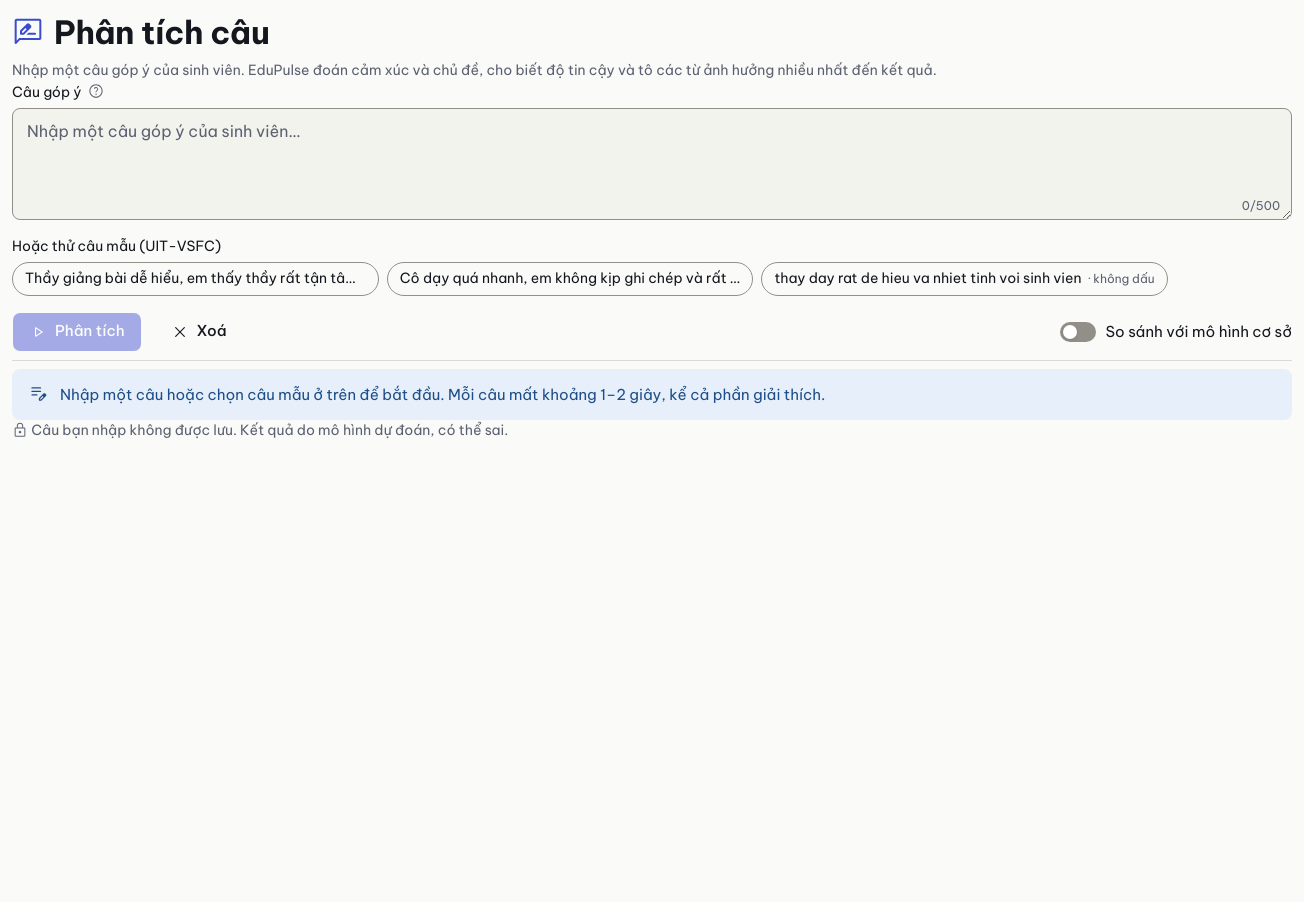
Scenario: trang Phân tích câu › chọn câu khác khi câu trước chưa xong: kết quả muộn của câu cũ không ghi đè câu mới
The width and height of the screenshot is (1304, 902).
Click the text box labelled "Câu góp ý" at (652,164), box [12,108,1292,220]
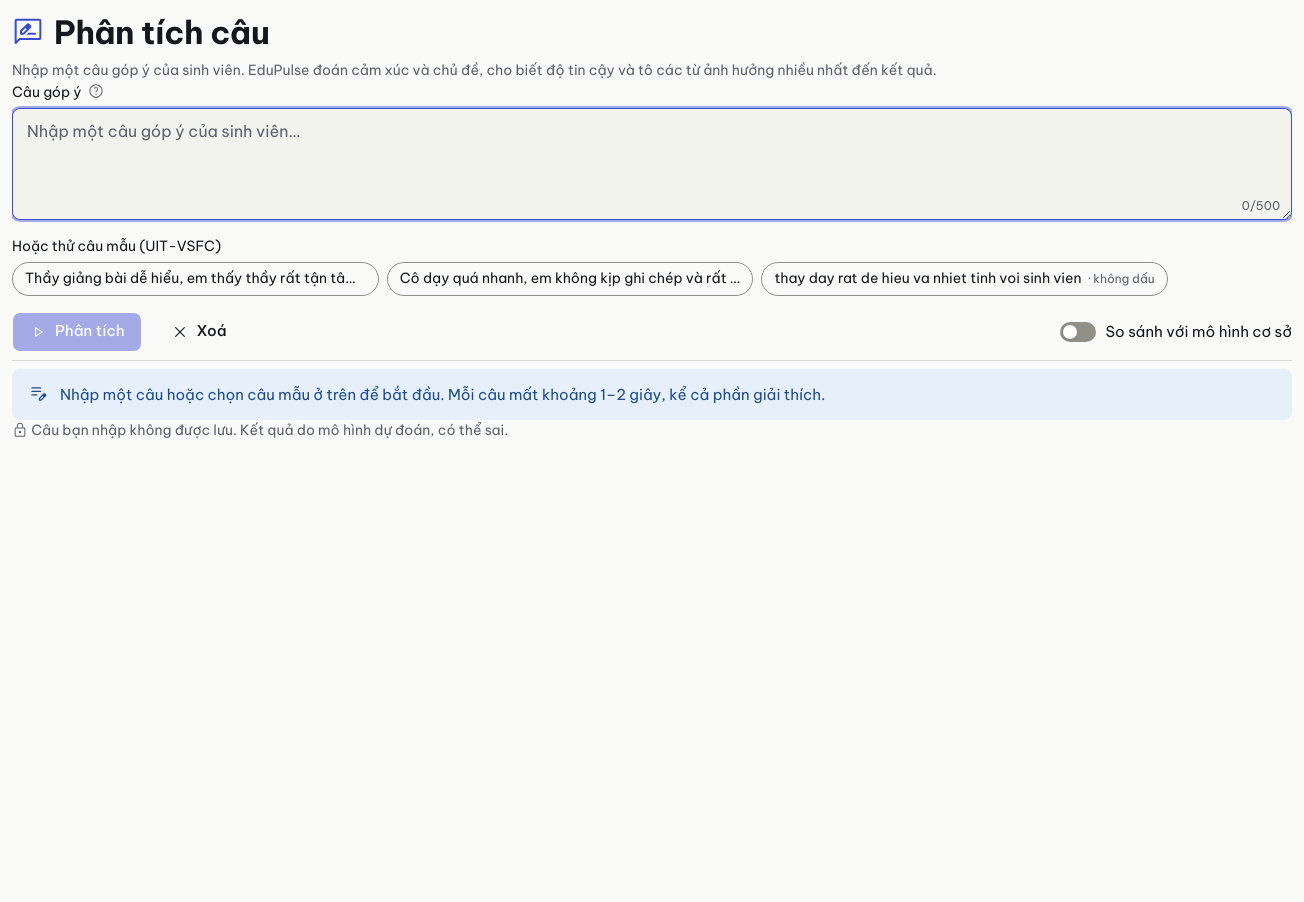
Type keys "Cô dạy quá nhanh, em không kịp ghi chép và rất ít khi được hỏi lại."
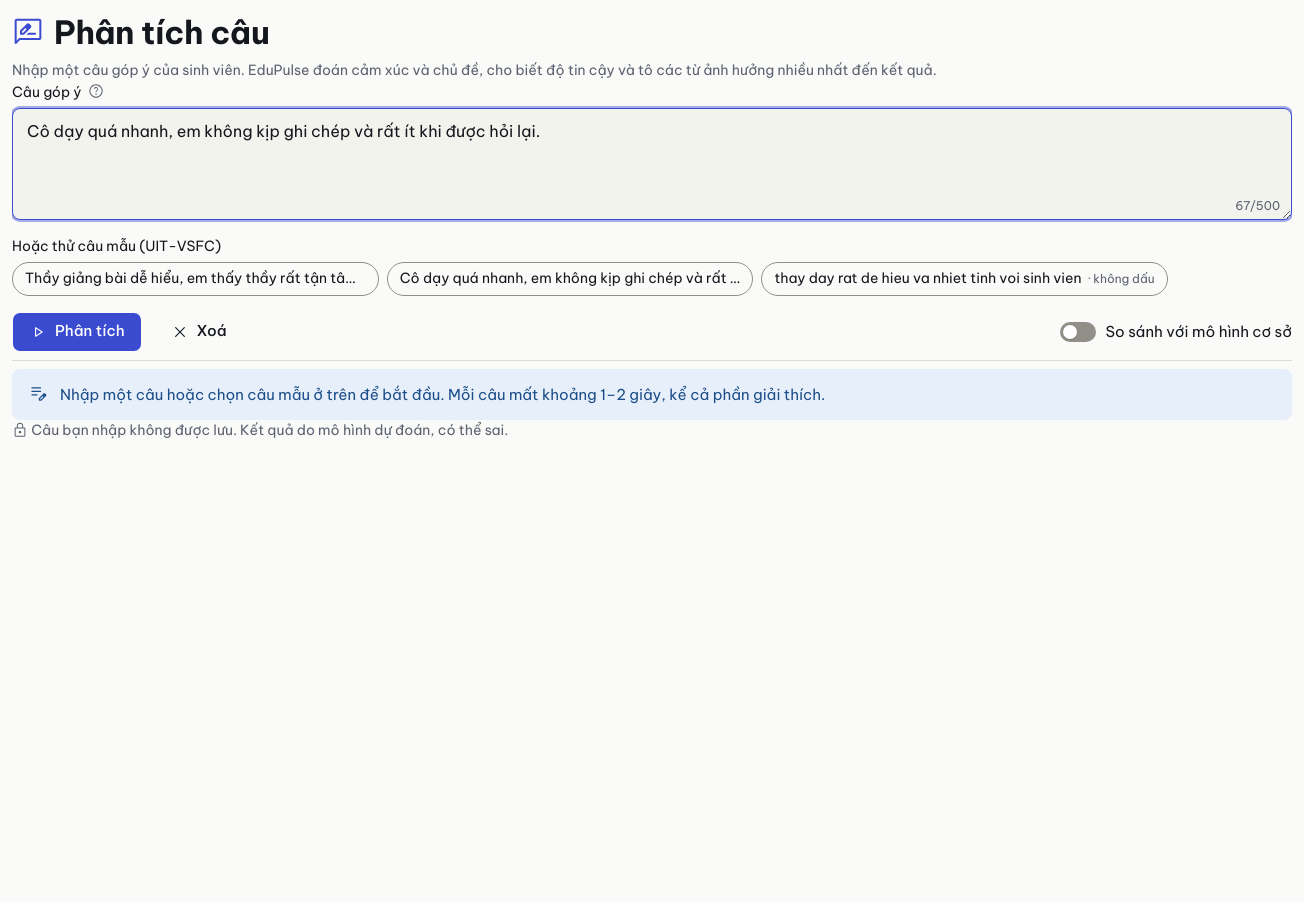
Click the button "Phân tích" at (77,332), box [12,312,142,352]
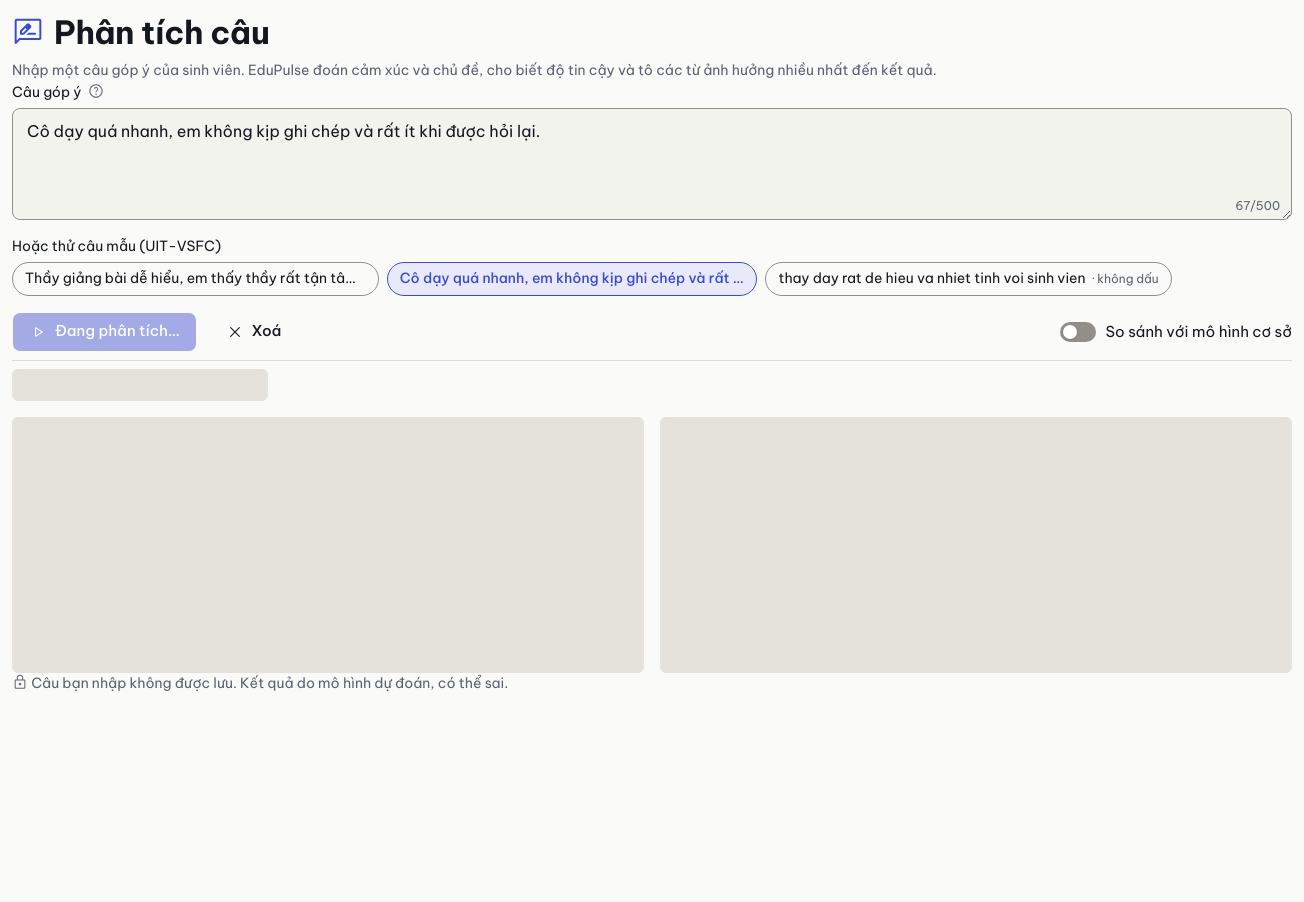
Click the button "Thầy giảng bài dễ hiểu, em thấy thầy rất tận tâm với lớp." at (195,279), box [12,262,379,296]
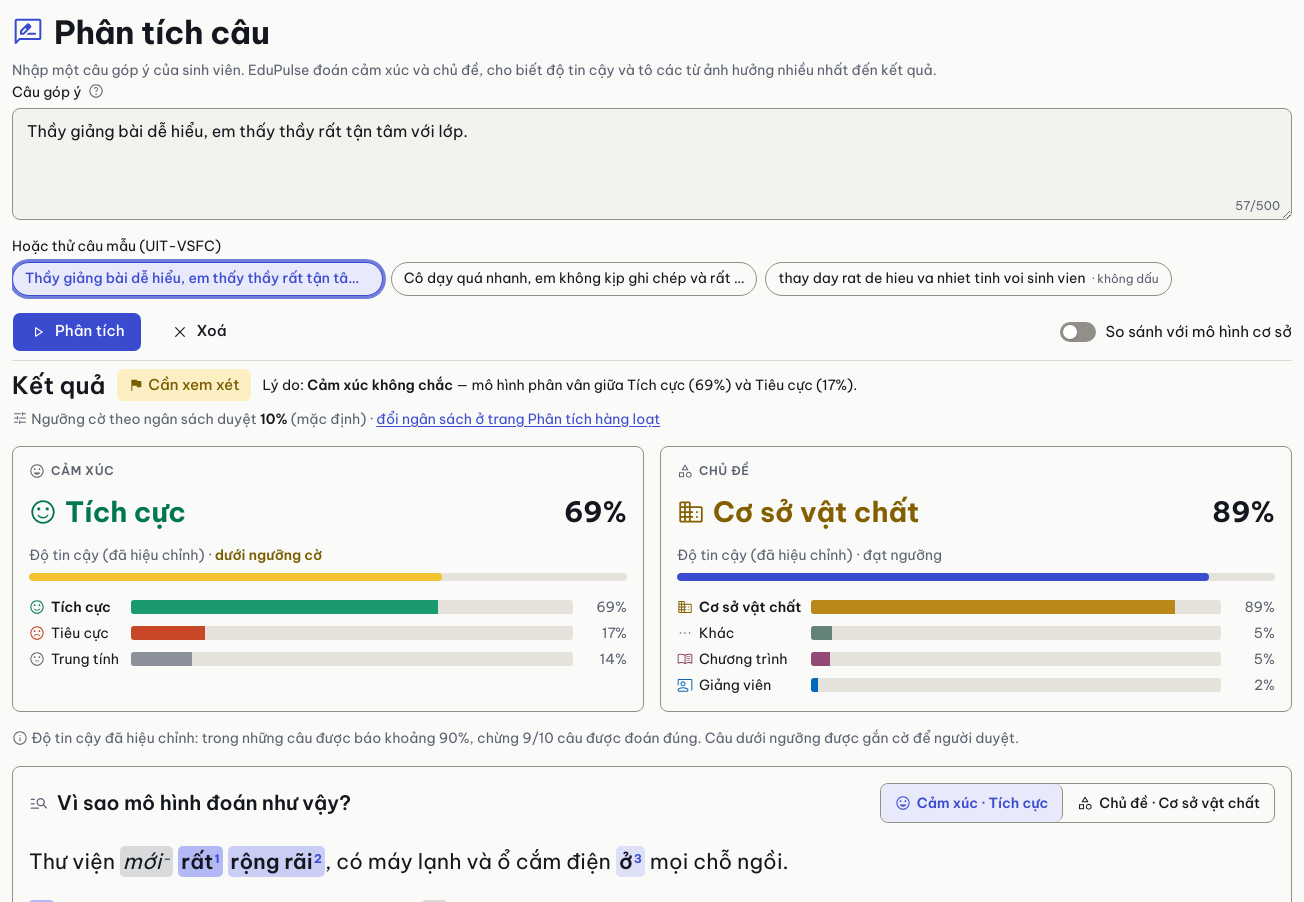
Check: the heading "Kết quả" is shown, box [12,369,105,401]
